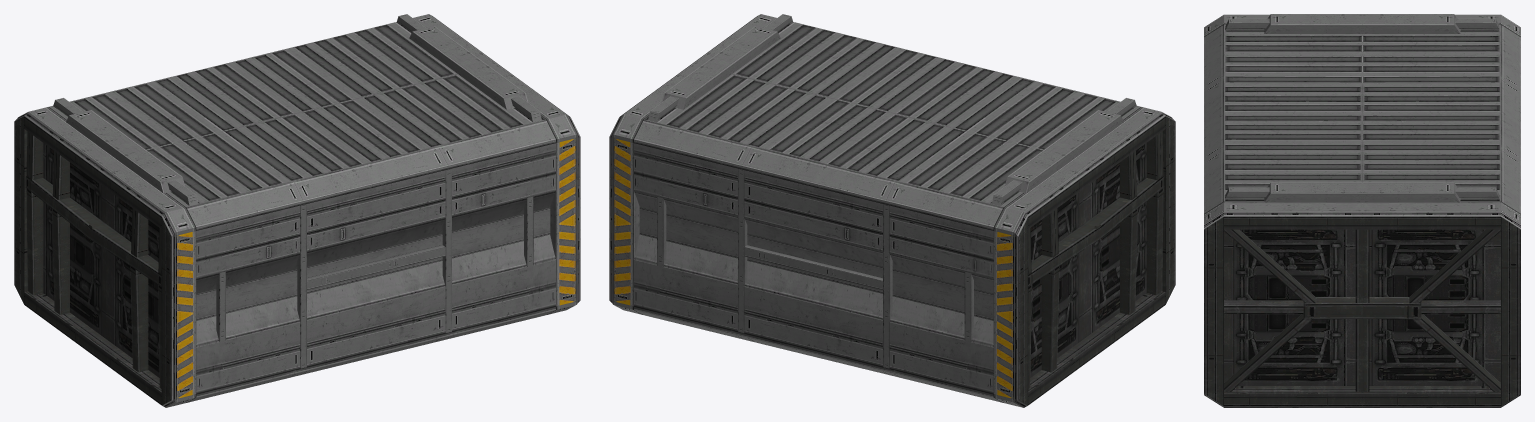
The model's file is Neon_CrateClosedC1.FBX.
3 renders of one model, left to right at view 1: azimuth 30°, elevation 25°; view 2: azimuth 150°, elevation 25°; view 3: azimuth 270°, elevation 25°, orthographic.
Parts seen in each view (by area): view 1: Neon_CrateClosedC1; view 2: Neon_CrateClosedC1; view 3: Neon_CrateClosedC1.
Boxes of the visible parts, x1,y1,x2,y2 form: Neon_CrateClosedC1: (14,14,580,407); Neon_CrateClosedC1: (609,14,1175,407); Neon_CrateClosedC1: (1204,14,1520,407).
Size of the model in its own units: 5.99 by 2.9 by 3.96.
